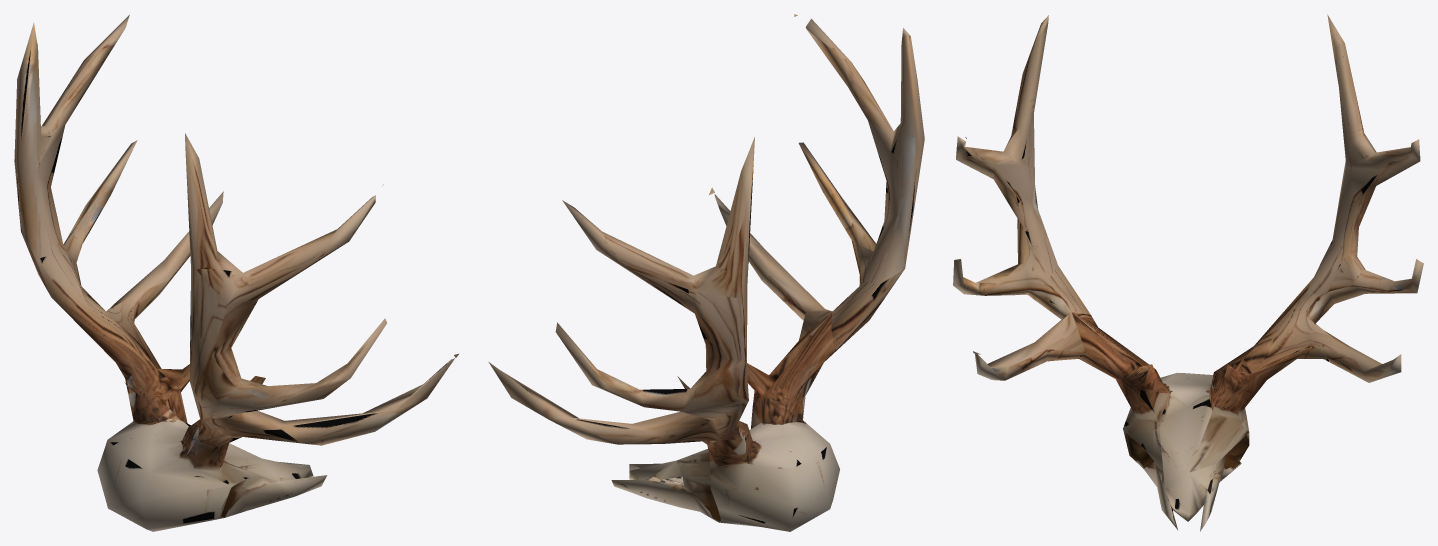
File: pair of elk entler.fbx
3 views of the same model, side by side, from view 1: azimuth 30°, elevation 25°; view 2: azimuth 150°, elevation 25°; view 3: azimuth 270°, elevation 25° (orthographic). The views are drawn at different scales.
Visible parts, largest first — view 1: tripo_node_7de4153a; view 2: tripo_node_7de4153a; view 3: tripo_node_7de4153a.
Boxes of the visible parts, <box> form: tripo_node_7de4153a: <box>14,14,458,531</box>; tripo_node_7de4153a: <box>488,14,924,531</box>; tripo_node_7de4153a: <box>953,14,1423,531</box>.
Size of the model in its own units: 53.49 by 97.39 by 98.26.
Materials: 1 (1 with a texture image).
